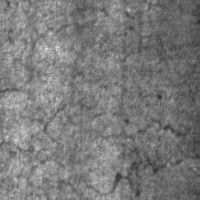crazing: (0, 13, 75, 146), (83, 114, 196, 200)
